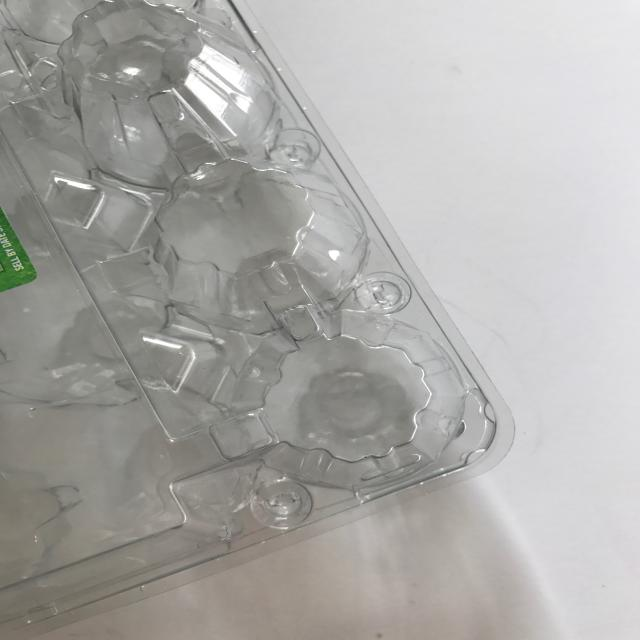plastic: (1, 0, 514, 632)
